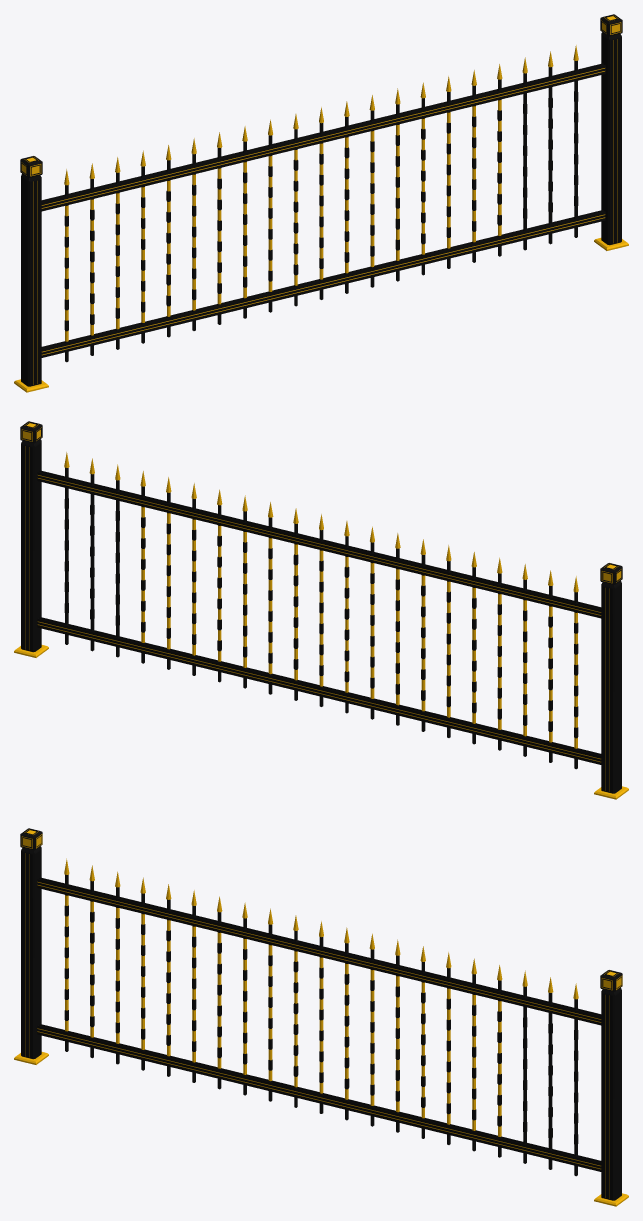
File: wroughtiron_01.FBX
3 renders of one model, top to bottom at view 1: azimuth 30°, elevation 25°; view 2: azimuth 150°, elevation 25°; view 3: azimuth 330°, elevation 25°, orthographic.
Visible parts, largest first — view 1: Box022; view 2: Box022; view 3: Box022.
Boxes of the visible parts, bbox=[...] form: Box022: bbox=[14, 14, 628, 392]; Box022: bbox=[14, 421, 628, 799]; Box022: bbox=[14, 828, 628, 1206].
Bounding box in the file's own units: 213 × 76.25 × 7.83.
